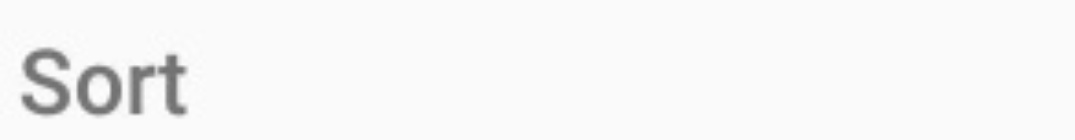TextView: (1, 1, 1074, 139)
